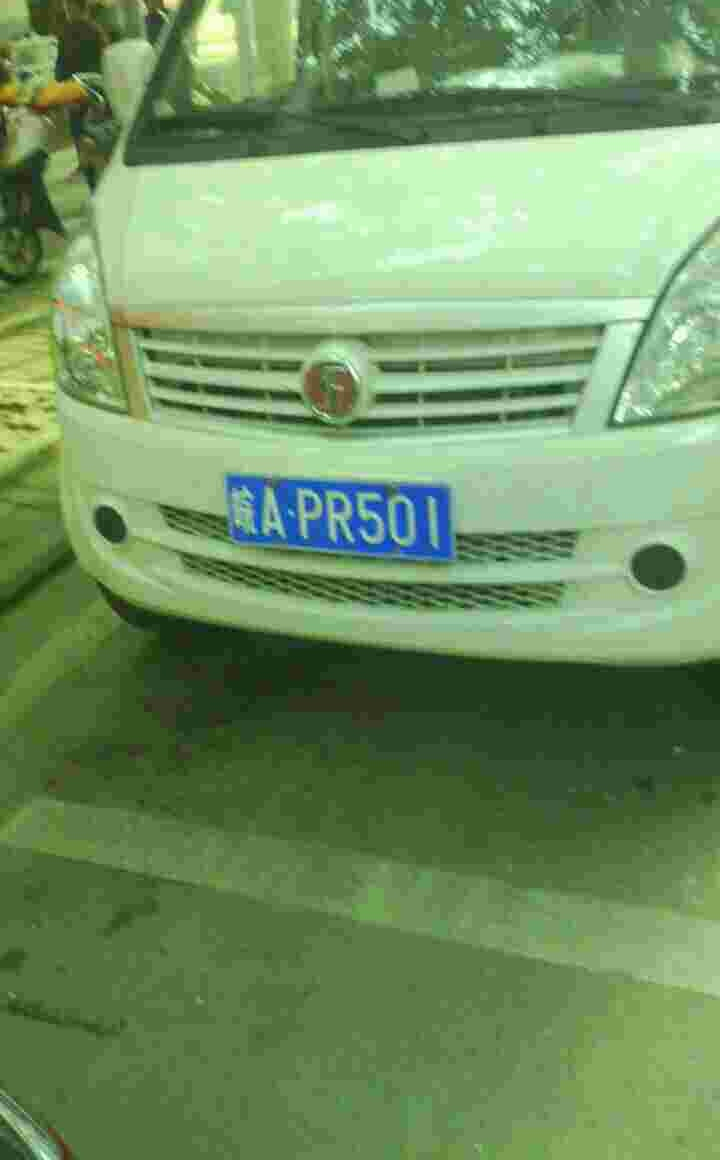plate: (218, 466, 462, 566)
